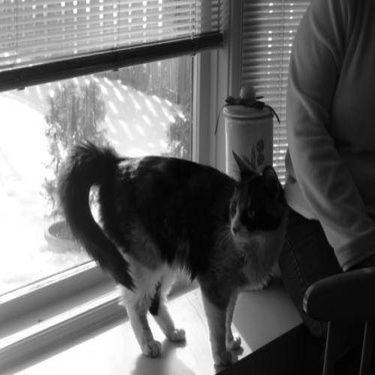cat: (28, 119, 304, 371)
